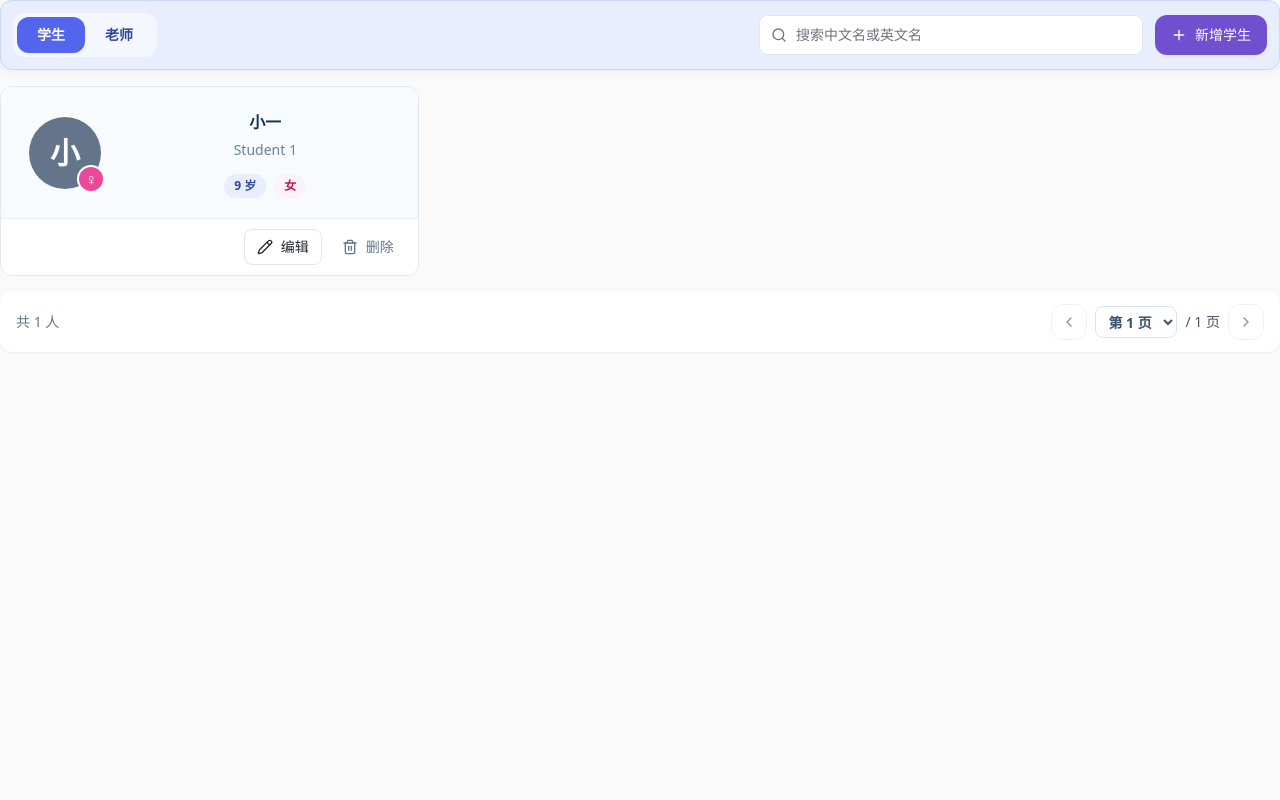
Scenario: PeopleManager › archives a person from the custom delete dialog and removes the card
Expected: the heading "小一" is shown, 249,108 -> 281,136
Click the button with aria-label "删除小一" at (368, 247), box 330,229 -> 406,265
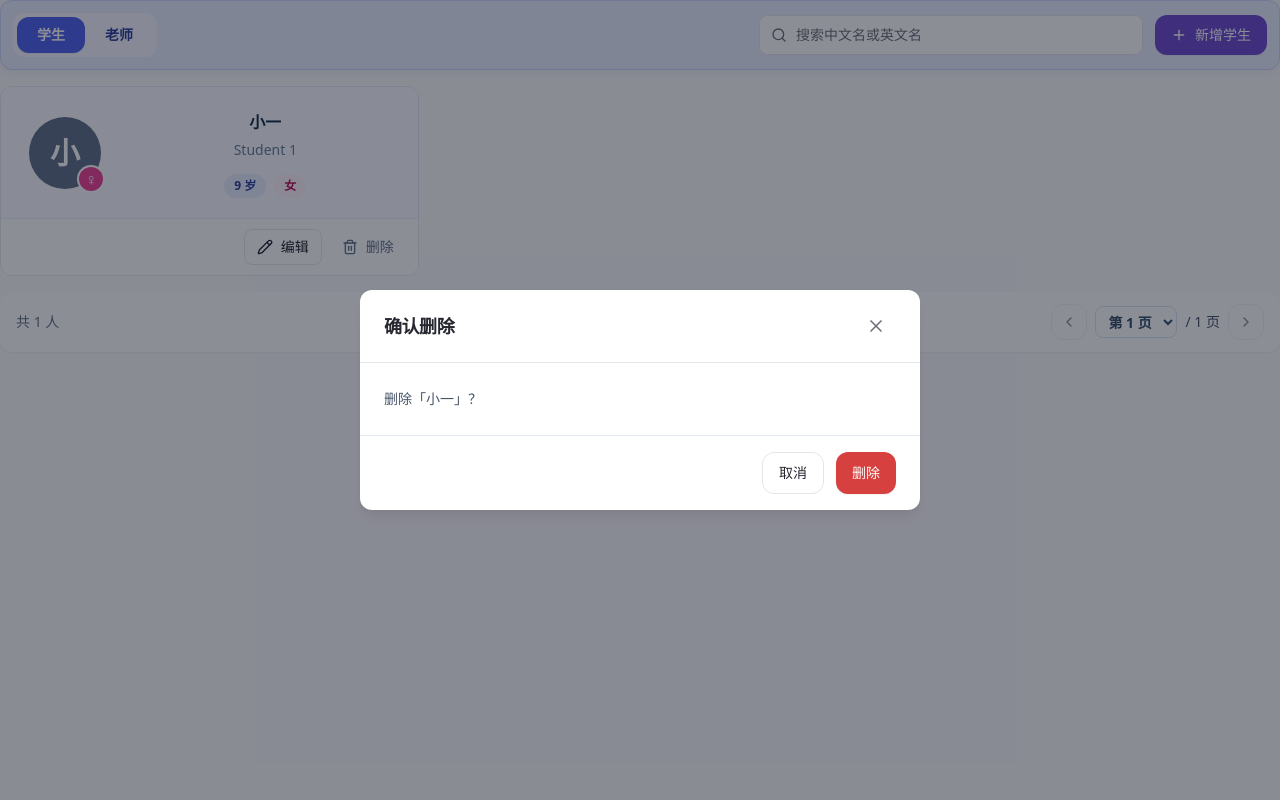
Expected: the dialog "确认删除" is shown, 360,290 -> 920,510
Click the button "删除" at (866, 473), box 836,452 -> 896,494
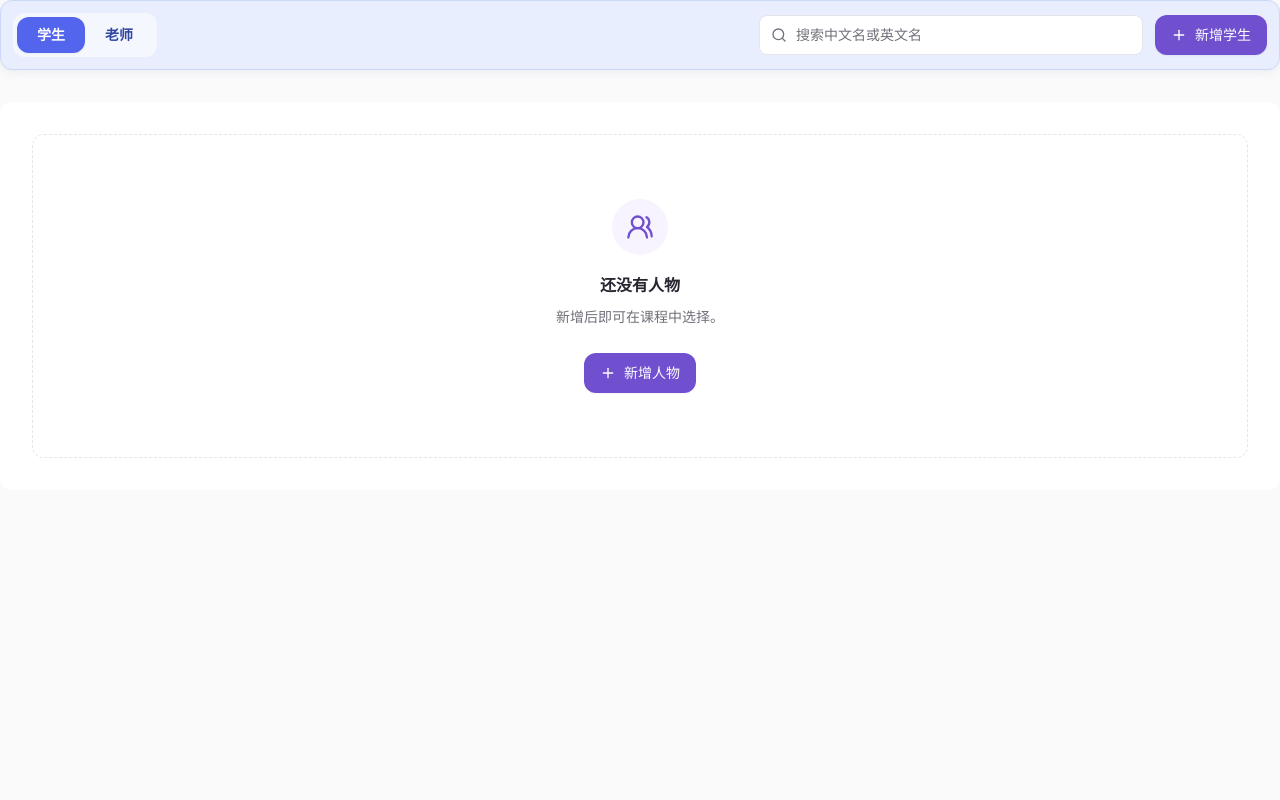
Expected: the heading "小一" is gone
